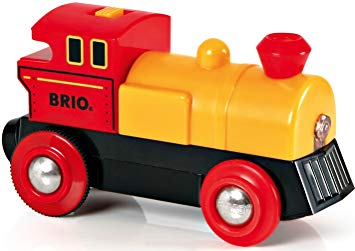brio: (1, 1, 355, 250)
